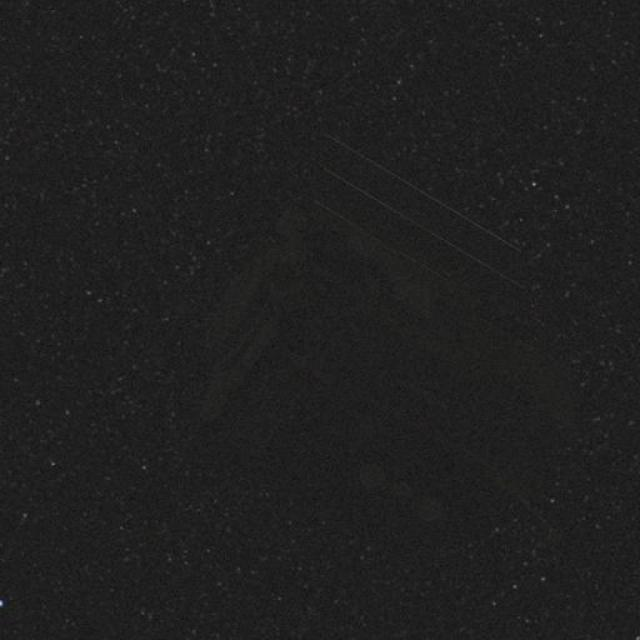proba_2: (170, 174, 542, 492)
